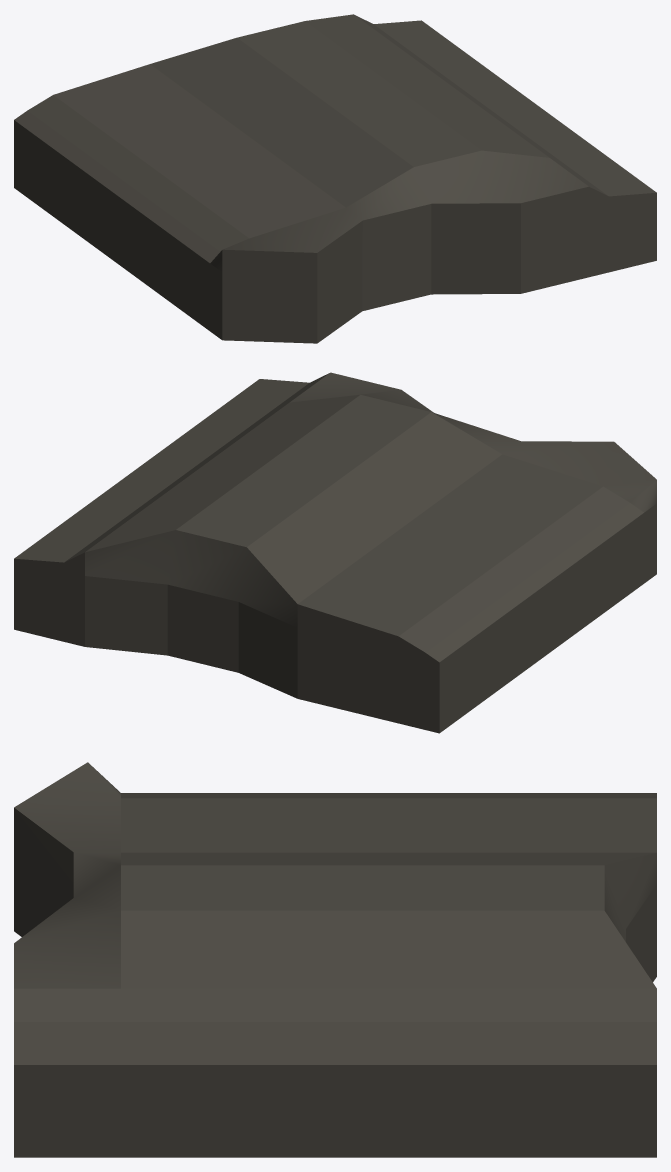
File: Rubble 5.fbx
3 renders of one model, top to bottom at view 1: azimuth 30°, elevation 25°; view 2: azimuth 150°, elevation 25°; view 3: azimuth 270°, elevation 25°, orthographic. The views are drawn at different scales.
Visible parts, largest first — view 1: Rubble 5; view 2: Rubble 5; view 3: Rubble 5.
Part boxes in pixels (x1=…): Rubble 5: x1=14, y1=14, x2=656, y2=343; Rubble 5: x1=14, y1=372, x2=656, y2=733; Rubble 5: x1=14, y1=762, x2=656, y2=1157.
Size of the model in its own units: 20 by 5.37 by 20.
Materials: 1 (1 with a texture image).
